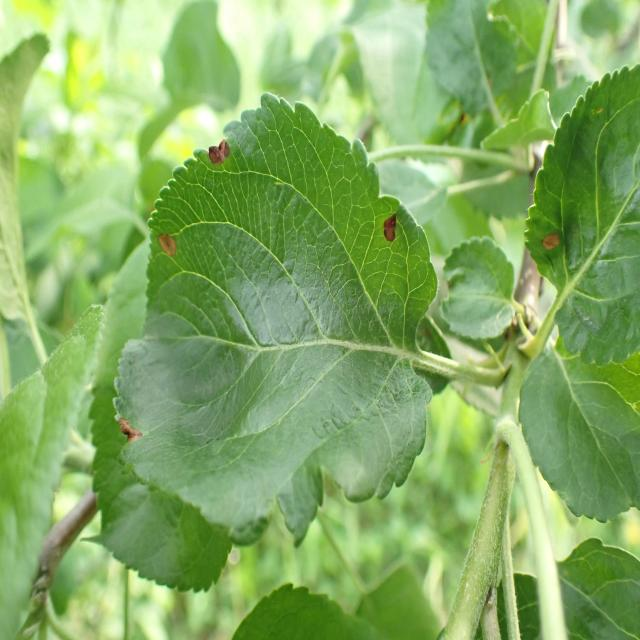frog-eye-leaf-spot: (111, 94, 439, 548), (521, 63, 640, 369)
